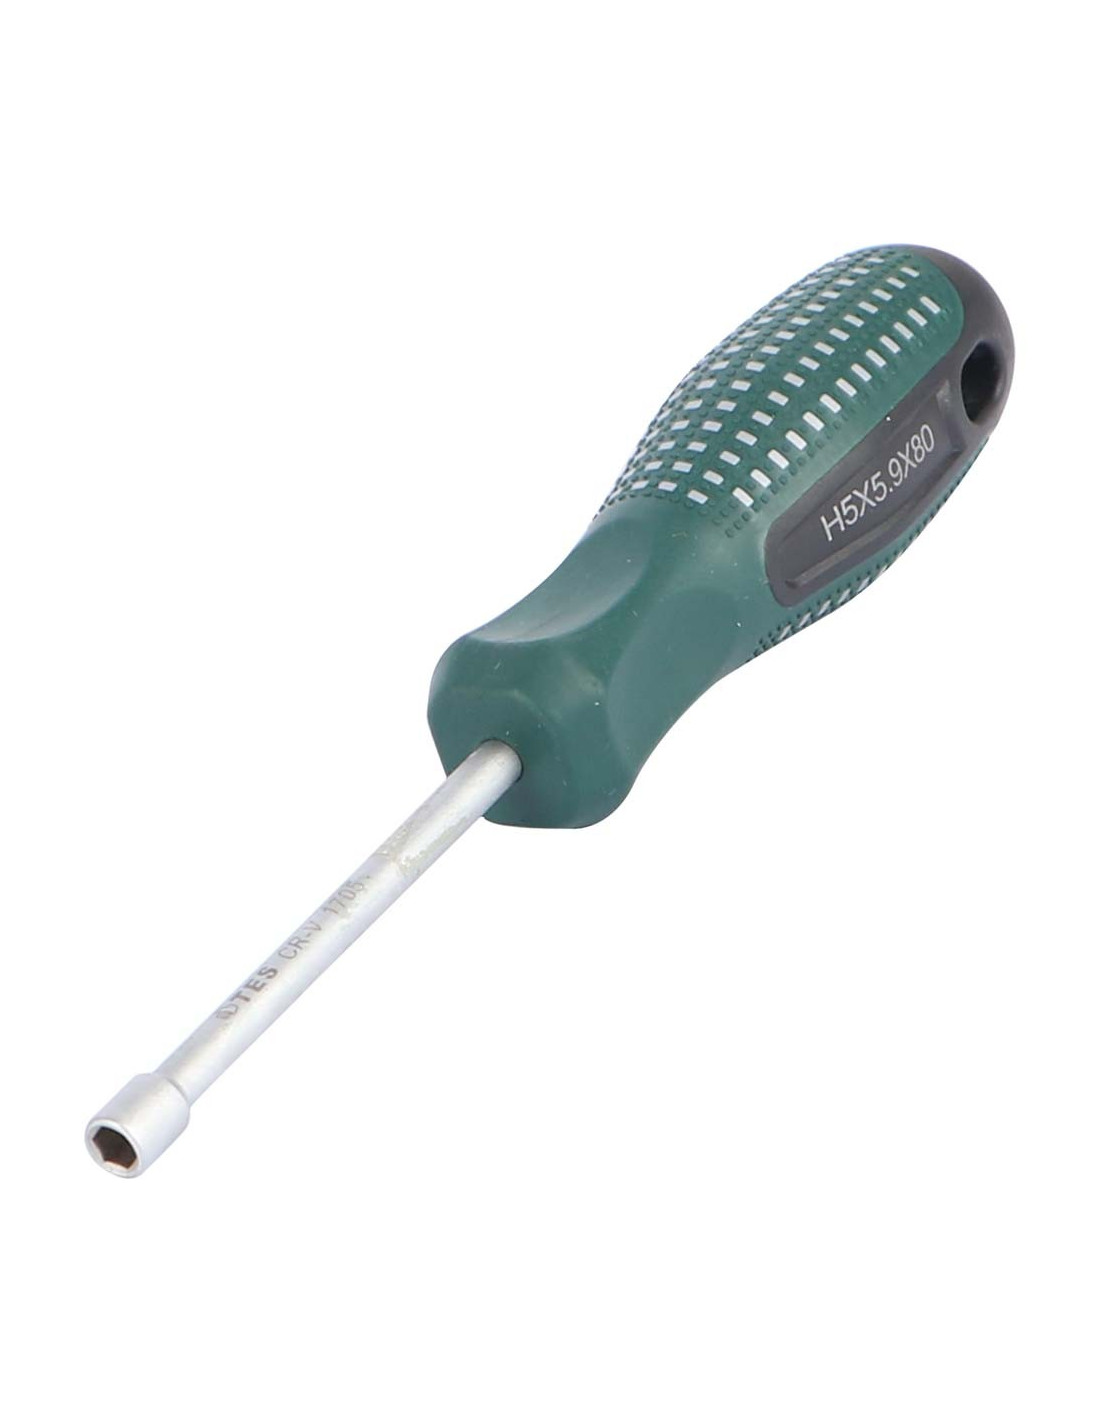screwdriver: (87, 244, 1015, 1178)
